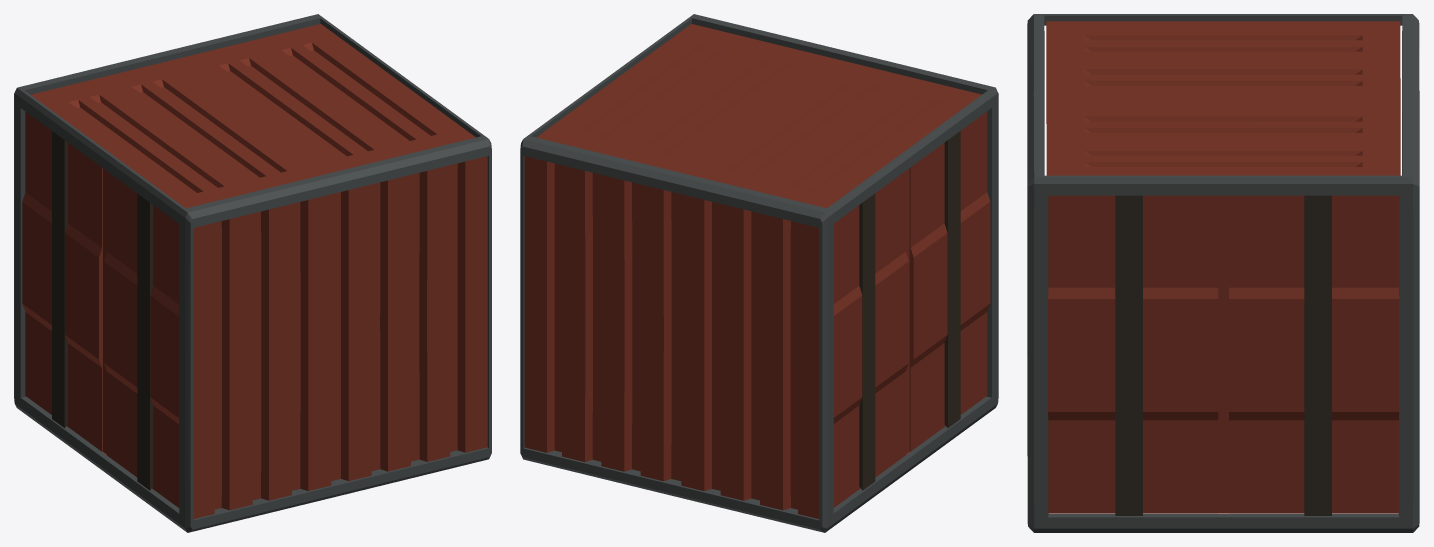
The model's file is container.glb.
3 renders of one model, left to right at view 1: azimuth 30°, elevation 25°; view 2: azimuth 150°, elevation 25°; view 3: azimuth 270°, elevation 25°, orthographic. The views are drawn at different scales.
Bounding box in the file's own units: 1 × 1 × 1.
